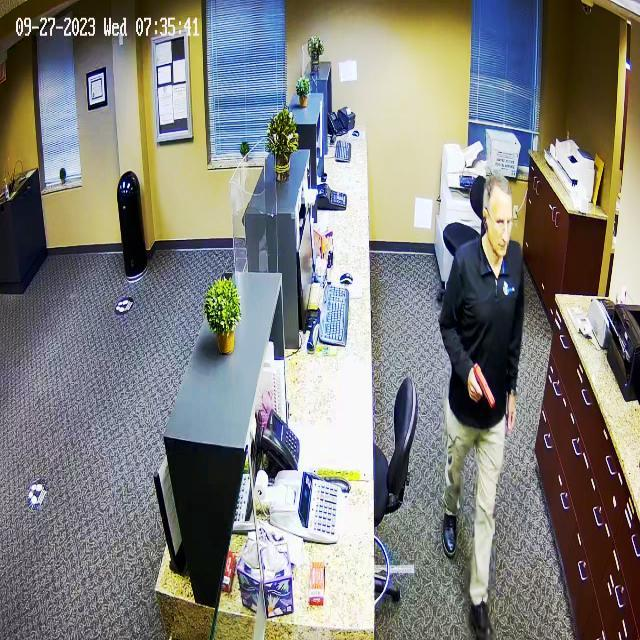Gun: (462, 351, 502, 412)
